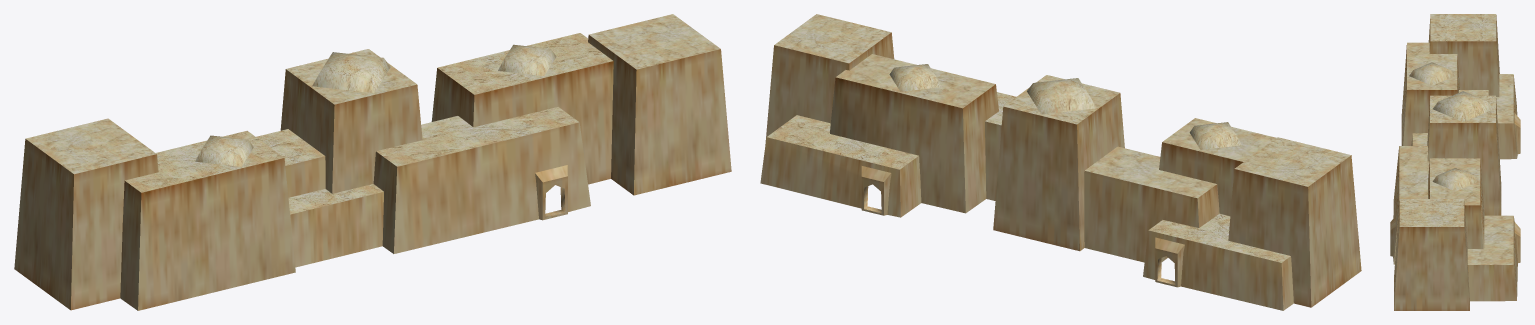
The model's file is thm_tato_block_bldg_64x16_s02_r0_exterior_mesh_l3.fbx.
3 views of the same model, side by side, from view 1: azimuth 30°, elevation 25°; view 2: azimuth 150°, elevation 25°; view 3: azimuth 270°, elevation 25° (orthographic). The views are drawn at different scales.
Visible parts, largest first — view 1: mesh_node; view 2: mesh_node; view 3: mesh_node.
Boxes of the visible parts, x1,y1,x2,y2 form: mesh_node: (14, 14, 731, 310); mesh_node: (760, 14, 1361, 310); mesh_node: (1390, 14, 1520, 310).
Size of the model in its own units: 63.77 by 15.05 by 16.67.
